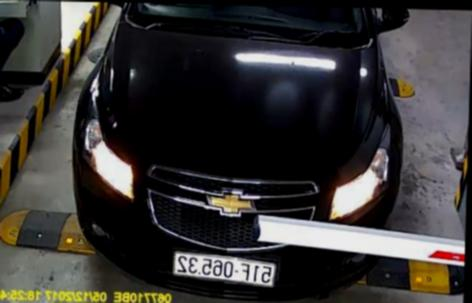License_Plate: (173, 250, 279, 290)
